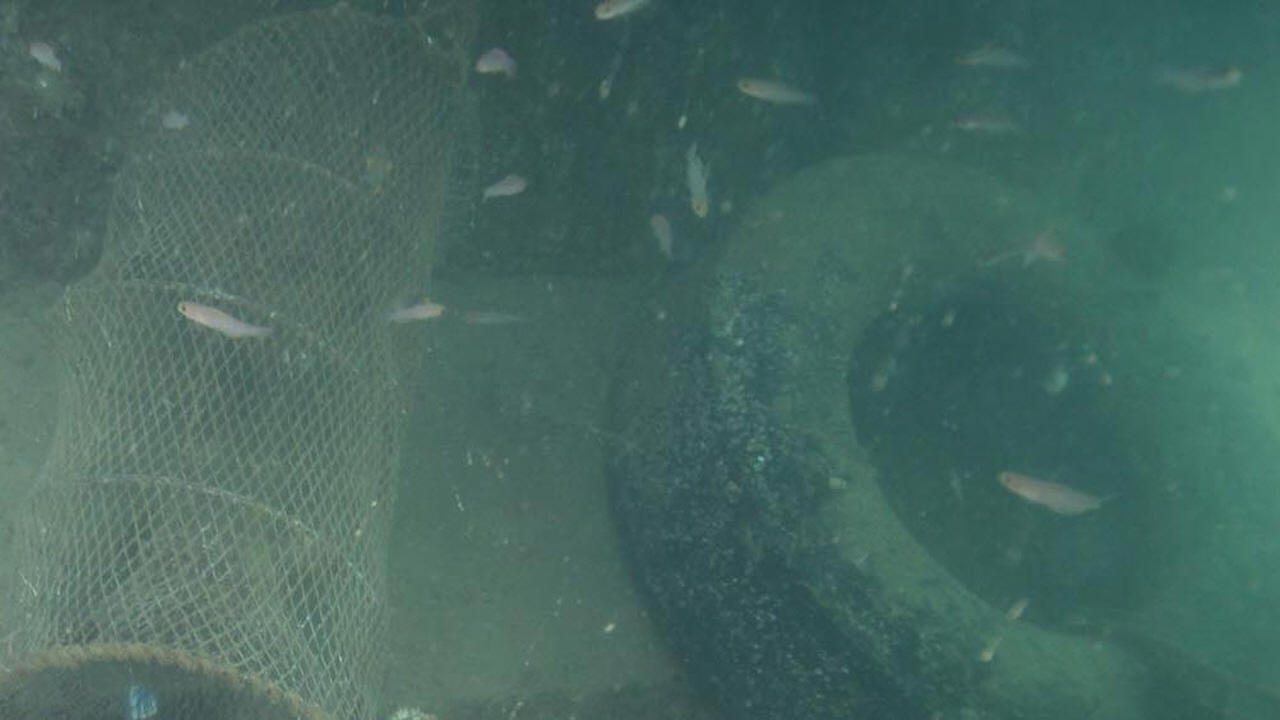spring fish trap: (0, 0, 476, 720)
tire: (601, 151, 1280, 720)
